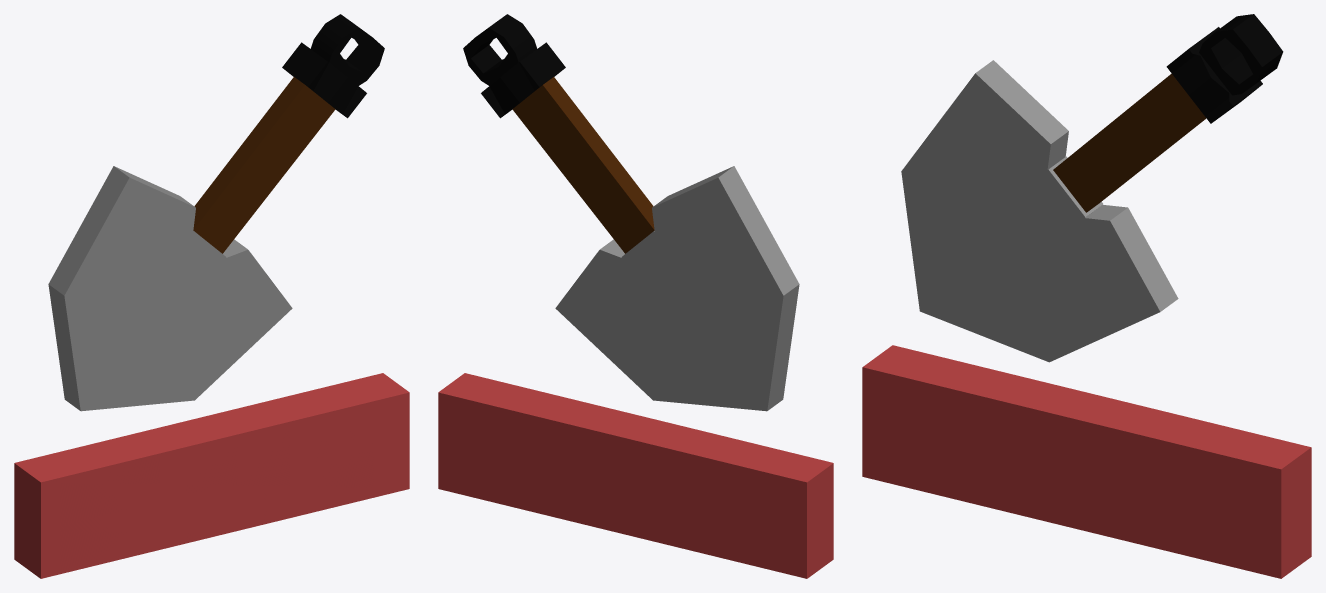
The model's file is Icon_RemoveBlockTile.glb.
3 views of the same model, side by side, from view 1: azimuth 30°, elevation 25°; view 2: azimuth 150°, elevation 25°; view 3: azimuth 330°, elevation 25° (orthographic). The views are drawn at different scales.
Visible parts, largest first — view 1: Shovel, Minus Icon; view 2: Shovel, Minus Icon; view 3: Shovel, Minus Icon.
Part boxes in pixels (<box>): Shovel: <box>48,14,384,411</box>; Minus Icon: <box>14,373,409,578</box>; Shovel: <box>463,14,799,411</box>; Minus Icon: <box>438,373,833,578</box>; Shovel: <box>901,14,1283,362</box>; Minus Icon: <box>862,345,1311,578</box>.
Bounding box in the file's own units: 1.6 × 1.95 × 0.2.
